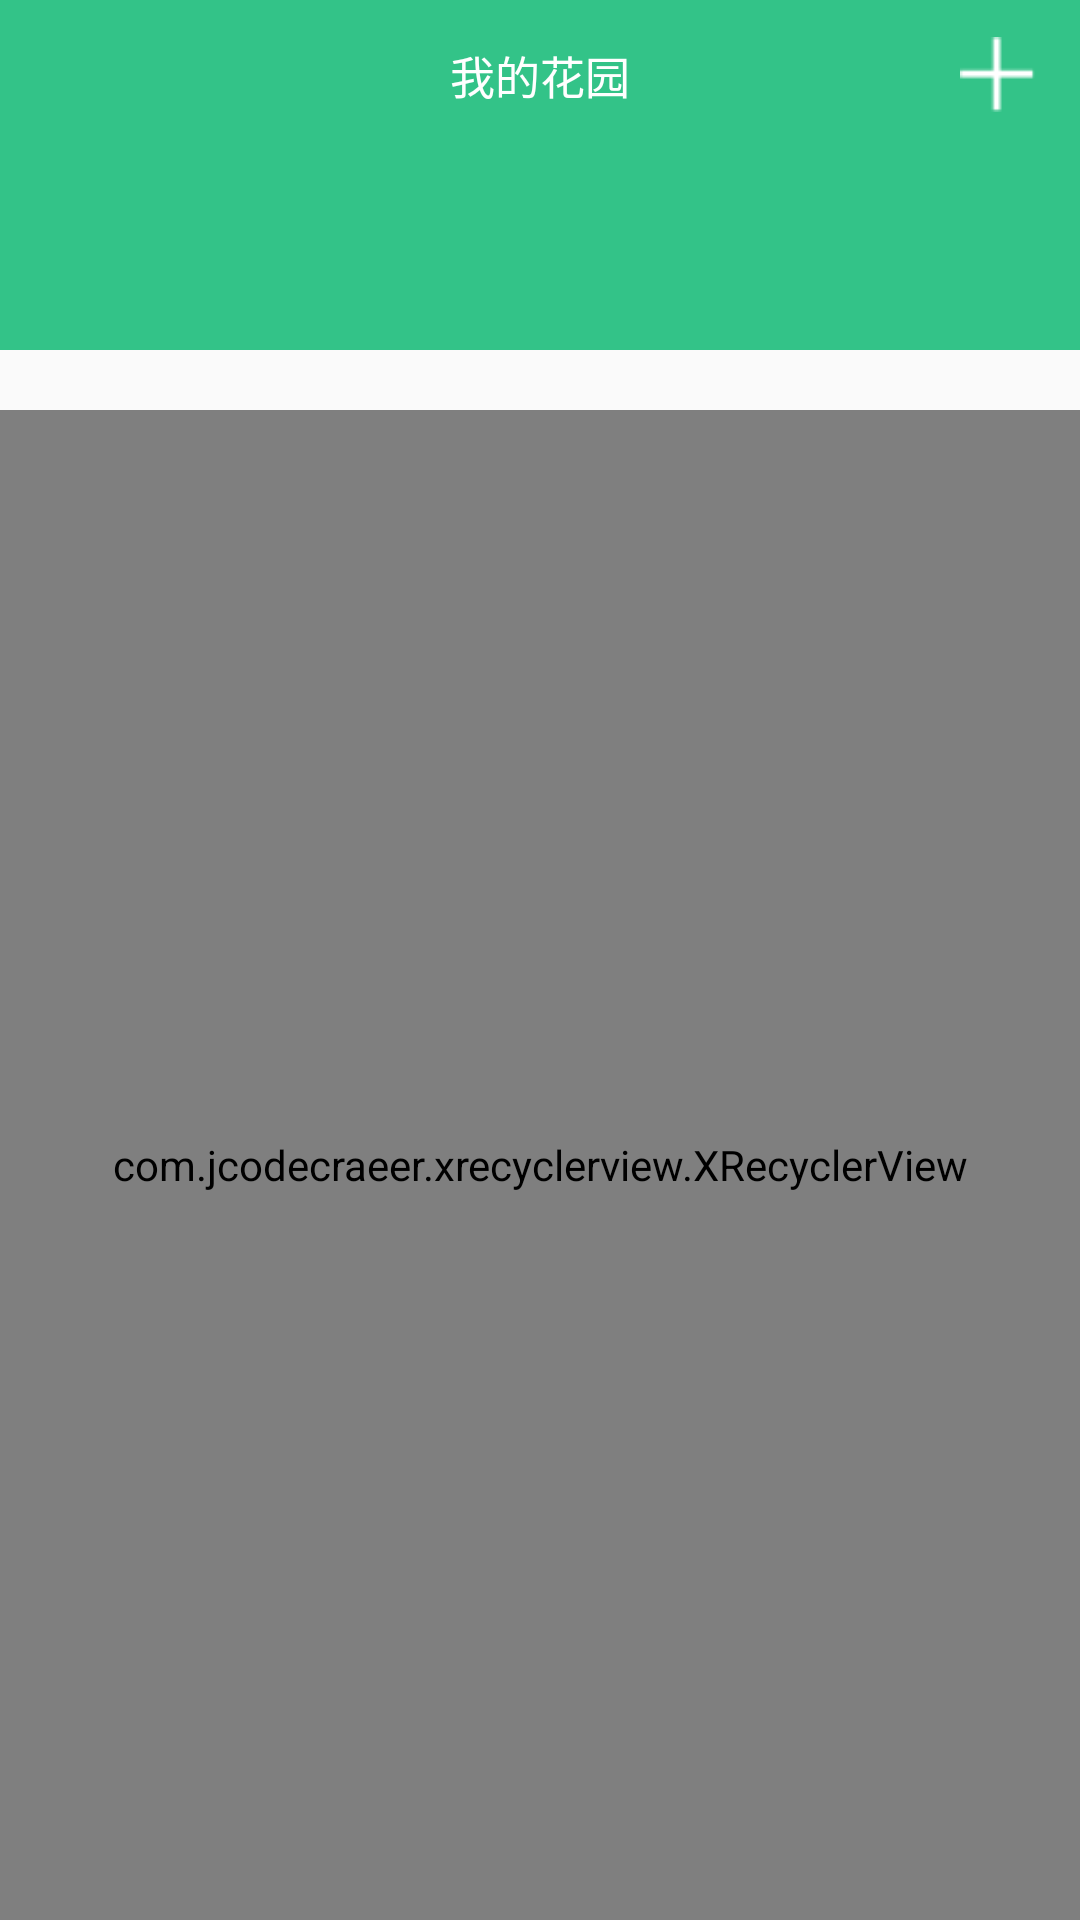

Point at icon controls on the screen. Image size 1080 x 1920, points as (x,y).
add al: (997,74)
